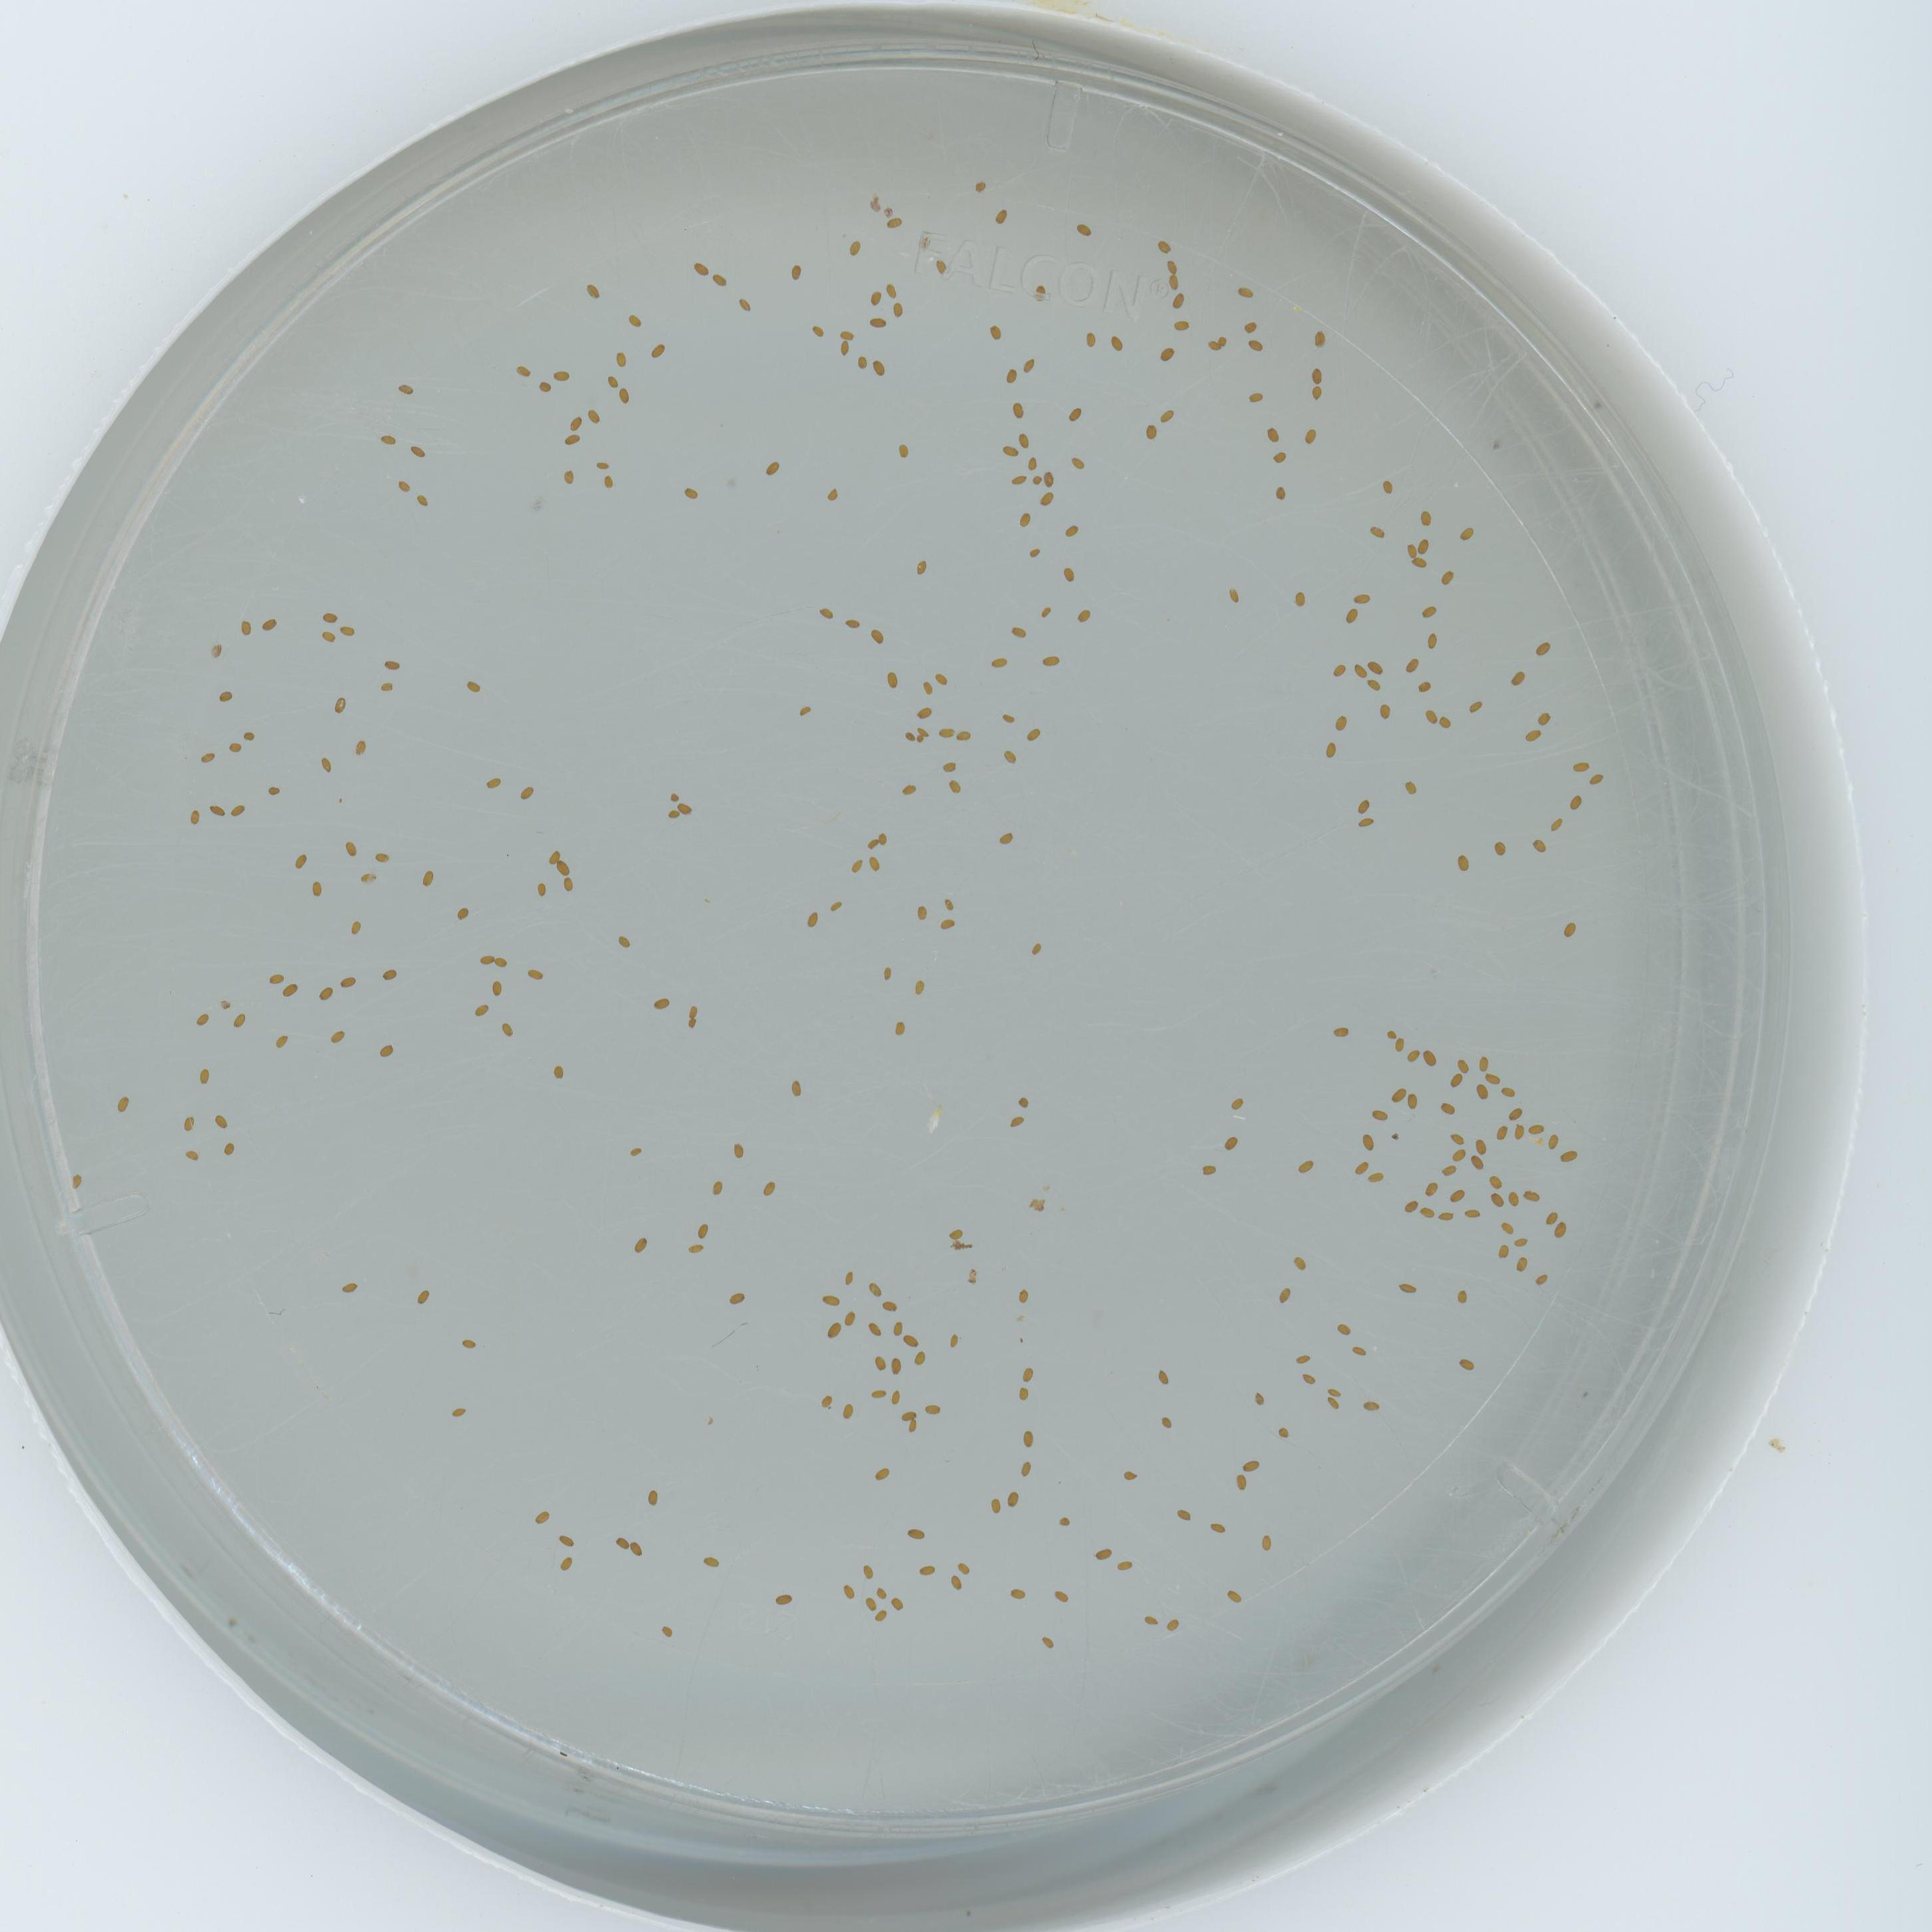seed: (885, 671, 904, 688), (1366, 658, 1385, 676), (1359, 1134, 1378, 1152), (1235, 283, 1256, 299), (616, 386, 633, 403), (867, 288, 885, 306), (764, 458, 782, 476), (824, 1322, 842, 1339), (695, 1221, 713, 1238), (823, 1290, 840, 1307), (860, 1562, 878, 1580), (890, 1389, 908, 1407), (1010, 400, 1028, 418), (1568, 793, 1585, 810), (1355, 798, 1373, 816), (1168, 292, 1185, 310), (1332, 713, 1350, 731), (1506, 1104, 1523, 1122), (1422, 1178, 1440, 1196), (1403, 1092, 1421, 1109), (1003, 1491, 1021, 1509), (1560, 1146, 1578, 1164), (1422, 1049, 1440, 1067), (1143, 421, 1159, 441), (1016, 511, 1035, 527), (1008, 623, 1028, 639), (1352, 1159, 1371, 1175), (1543, 1134, 1562, 1150), (1361, 1396, 1380, 1412), (1352, 591, 1373, 605), (260, 616, 278, 632), (694, 260, 711, 276), (320, 609, 338, 625), (932, 671, 950, 686), (870, 313, 888, 329), (867, 856, 885, 872), (711, 271, 729, 287), (844, 616, 862, 632), (870, 628, 888, 644), (396, 380, 414, 396), (216, 688, 234, 704), (207, 801, 225, 817), (890, 301, 908, 317), (566, 414, 584, 430), (736, 295, 754, 311), (872, 357, 888, 375), (412, 492, 430, 508), (292, 855, 308, 872), (333, 697, 349, 715), (600, 474, 616, 492), (584, 281, 602, 297), (901, 782, 918, 798), (379, 432, 396, 448), (839, 326, 856, 341), (377, 679, 395, 695), (798, 702, 816, 718), (867, 1320, 885, 1336), (874, 1465, 892, 1481), (881, 1295, 899, 1311), (902, 1332, 920, 1348), (842, 1311, 860, 1327), (317, 985, 334, 1001), (212, 1111, 228, 1129), (230, 1012, 248, 1028), (533, 1507, 550, 1523), (924, 1399, 941, 1415), (908, 1523, 924, 1541), (702, 1553, 720, 1569), (729, 1141, 745, 1159), (867, 1279, 885, 1295), (380, 966, 398, 982), (839, 1403, 856, 1419), (709, 1178, 725, 1196), (340, 1277, 357, 1293), (862, 1598, 879, 1614), (761, 1180, 778, 1196), (548, 1063, 566, 1079), (901, 1407, 918, 1422), (911, 978, 929, 994), (1023, 456, 1040, 472), (1058, 566, 1076, 582), (1422, 633, 1440, 649), (1263, 426, 1281, 442), (1491, 840, 1509, 856), (1037, 490, 1053, 508), (1343, 607, 1361, 623), (1173, 317, 1191, 333), (1322, 741, 1338, 759), (1536, 709, 1552, 727), (1300, 428, 1318, 444), (1062, 522, 1079, 538), (1079, 331, 1097, 347), (1587, 771, 1605, 787), (1415, 538, 1433, 554), (1014, 432, 1031, 448), (1003, 366, 1019, 384), (1509, 671, 1527, 686), (1534, 640, 1552, 656), (1454, 855, 1470, 872), (1368, 524, 1385, 540), (1307, 366, 1325, 382), (1246, 336, 1263, 352), (1157, 407, 1175, 423), (1527, 1118, 1545, 1134), (1449, 1185, 1465, 1203), (1371, 1104, 1387, 1122), (1447, 1070, 1465, 1086), (1276, 1286, 1293, 1302), (1419, 1203, 1437, 1219), (1472, 1138, 1490, 1154), (1488, 1192, 1506, 1208), (1499, 1219, 1516, 1235), (1008, 1585, 1026, 1601), (1093, 1545, 1111, 1560), (1332, 1023, 1350, 1039), (1474, 1083, 1491, 1099), (1258, 1532, 1276, 1548), (1552, 1221, 1569, 1237), (1523, 1187, 1541, 1203), (1486, 1173, 1504, 1189), (1389, 1088, 1407, 1104), (1350, 1341, 1368, 1357), (1543, 1208, 1560, 1224), (1398, 1279, 1415, 1295), (1014, 1093, 1031, 1109), (1014, 1286, 1030, 1304), (1115, 1557, 1132, 1573), (1249, 1389, 1267, 1405), (1440, 1100, 1458, 1116), (1297, 1157, 1315, 1173), (1008, 1111, 1024, 1129), (1458, 1355, 1476, 1371), (361, 870, 379, 886), (628, 1145, 646, 1161), (1030, 941, 1047, 957), (373, 849, 389, 865), (605, 373, 621, 389), (554, 366, 570, 382), (343, 842, 359, 858), (805, 911, 821, 927), (237, 619, 253, 635), (515, 363, 531, 379), (310, 881, 326, 897), (410, 442, 426, 458), (352, 740, 368, 755), (564, 432, 580, 448), (561, 878, 577, 893), (586, 407, 602, 423), (915, 904, 931, 920), (556, 862, 571, 878), (839, 340, 855, 356), (207, 642, 223, 658), (855, 354, 870, 370), (534, 881, 550, 897), (678, 801, 694, 817), (317, 759, 333, 775), (651, 341, 667, 357), (847, 241, 863, 257), (226, 740, 242, 755), (895, 442, 911, 458), (518, 786, 534, 801), (186, 810, 202, 826), (478, 950, 494, 966), (419, 872, 435, 888), (817, 605, 833, 621), (545, 849, 561, 865), (934, 257, 950, 272), (941, 759, 957, 775), (828, 897, 844, 913), (267, 971, 283, 987), (630, 1541, 646, 1557), (633, 1237, 649, 1253), (872, 1384, 888, 1399), (890, 1596, 906, 1612), (612, 1534, 628, 1550), (559, 1555, 575, 1571), (115, 1097, 131, 1113), (488, 980, 504, 996), (379, 1040, 395, 1056), (819, 1392, 835, 1408), (890, 1357, 906, 1373), (416, 1290, 432, 1306), (890, 1320, 906, 1336), (842, 1583, 858, 1599), (913, 1350, 929, 1366), (948, 1575, 964, 1591), (644, 1490, 660, 1506), (842, 1269, 858, 1284), (499, 1021, 515, 1037), (729, 1290, 745, 1306), (777, 1591, 793, 1606), (789, 1079, 805, 1095), (196, 1069, 212, 1085), (180, 1115, 196, 1131), (688, 1238, 704, 1254), (904, 1419, 920, 1435), (892, 1017, 908, 1033), (451, 1403, 467, 1419), (1440, 570, 1456, 586), (1010, 471, 1026, 487), (1270, 448, 1286, 464), (1412, 556, 1428, 571), (998, 830, 1014, 846), (1001, 442, 1017, 458), (1242, 318, 1258, 334), (1468, 699, 1484, 715), (1272, 485, 1288, 501), (1065, 405, 1081, 421), (1421, 603, 1437, 619), (987, 324, 1003, 340), (1417, 510, 1433, 525), (1532, 837, 1548, 853), (1021, 356, 1037, 372), (1074, 607, 1090, 623), (1350, 663, 1366, 679), (1405, 656, 1421, 672), (1307, 384, 1323, 400), (1422, 709, 1438, 725), (1330, 663, 1346, 679), (1525, 727, 1541, 743), (1159, 345, 1175, 361), (1069, 453, 1085, 469), (993, 207, 1008, 223), (1106, 334, 1122, 350), (1024, 725, 1040, 741), (1155, 237, 1171, 253), (1162, 258, 1178, 274), (1042, 472, 1058, 488), (1164, 272, 1180, 288), (1575, 759, 1591, 775), (1076, 221, 1092, 237), (1000, 709, 1016, 725), (1449, 1129, 1465, 1145), (987, 1499, 1003, 1514), (1514, 1254, 1530, 1270), (1534, 1270, 1550, 1286), (1500, 1083, 1516, 1099), (1336, 1320, 1352, 1336), (1233, 1474, 1249, 1490), (1513, 1233, 1529, 1249), (1368, 1168, 1384, 1184), (1451, 1146, 1467, 1162), (1164, 1617, 1180, 1633), (1274, 1424, 1290, 1440), (1293, 1350, 1309, 1366), (1476, 1056, 1491, 1072), (1454, 1288, 1470, 1304), (1154, 1368, 1169, 1384), (1019, 1366, 1035, 1382), (1456, 1058, 1472, 1074), (1493, 1123, 1509, 1139), (1511, 1125, 1527, 1141), (1484, 1069, 1500, 1085), (1021, 1430, 1037, 1445), (1290, 1253, 1306, 1269), (1495, 1242, 1511, 1258), (1325, 1382, 1341, 1398), (1223, 1134, 1238, 1150), (1016, 1385, 1031, 1401), (1017, 1460, 1033, 1476), (1157, 1414, 1173, 1430), (1054, 1513, 1070, 1529), (71, 1173, 87, 1189), (241, 729, 258, 743), (338, 623, 356, 637), (849, 860, 867, 874), (485, 777, 502, 791), (612, 352, 630, 366), (616, 934, 633, 948), (939, 916, 957, 931), (789, 264, 803, 281), (193, 1012, 211, 1026), (557, 1532, 575, 1546), (653, 994, 671, 1008), (876, 1585, 893, 1599), (660, 1624, 678, 1638), (1042, 655, 1060, 669), (1560, 922, 1578, 936), (1458, 525, 1476, 540), (1357, 816, 1375, 830), (1401, 780, 1419, 794), (1242, 1458, 1260, 1472), (1468, 1155, 1486, 1169), (1175, 1507, 1192, 1522), (1224, 1589, 1242, 1603), (1463, 1205, 1481, 1219), (1440, 1162, 1458, 1177), (954, 729, 973, 741), (916, 706, 932, 720), (384, 658, 400, 672), (455, 906, 471, 920), (939, 725, 955, 740), (320, 630, 336, 644), (685, 487, 701, 501), (886, 216, 902, 230), (265, 784, 281, 798), (396, 478, 412, 492), (467, 679, 483, 694), (810, 324, 826, 338), (947, 780, 962, 794), (886, 283, 902, 297), (228, 803, 244, 817), (913, 561, 929, 575), (561, 469, 577, 483), (594, 458, 610, 472), (200, 750, 216, 764), (920, 679, 934, 695), (826, 488, 842, 502), (628, 313, 644, 327), (349, 918, 363, 934), (474, 1001, 488, 1017), (340, 975, 356, 989), (281, 982, 297, 996), (948, 1224, 964, 1238), (274, 1035, 290, 1049), (527, 968, 543, 982), (460, 1336, 476, 1350), (874, 1355, 888, 1371), (221, 1141, 237, 1155), (874, 1608, 890, 1622), (329, 1030, 345, 1044), (920, 1562, 936, 1576), (686, 1003, 701, 1019), (184, 1146, 200, 1161), (955, 1560, 971, 1575), (1246, 389, 1261, 403), (1026, 545, 1042, 559), (1292, 591, 1307, 605), (1376, 704, 1392, 718), (1417, 679, 1433, 694), (1001, 750, 1017, 764), (1403, 541, 1417, 557), (1378, 479, 1394, 494), (1366, 679, 1382, 694), (1438, 715, 1454, 729), (1548, 817, 1564, 832), (1224, 587, 1240, 602), (991, 655, 1007, 669), (1205, 338, 1219, 354), (971, 179, 987, 193), (1039, 1635, 1054, 1649), (1405, 1047, 1421, 1062), (1051, 1589, 1067, 1603), (1208, 1520, 1224, 1534), (1403, 1200, 1419, 1214), (1141, 1614, 1157, 1628), (1506, 1192, 1522, 1207), (1300, 1371, 1316, 1385), (1200, 1161, 1215, 1175), (1228, 1095, 1244, 1109), (538, 380, 552, 395), (943, 897, 957, 911), (667, 791, 681, 805), (947, 1332, 961, 1346), (1311, 331, 1325, 345), (1028, 474, 1042, 488), (881, 966, 893, 982), (1438, 1208, 1454, 1221), (1325, 1398, 1341, 1410), (1394, 1037, 1407, 1053), (1031, 287, 1044, 303), (667, 809, 681, 821), (878, 833, 892, 846), (1122, 1468, 1136, 1481), (1384, 1026, 1398, 1039), (494, 957, 510, 968), (867, 837, 879, 849), (686, 1016, 699, 1028), (1217, 334, 1230, 347), (916, 725, 931, 736), (1040, 605, 1051, 617), (904, 731, 915, 741), (915, 734, 925, 745)
